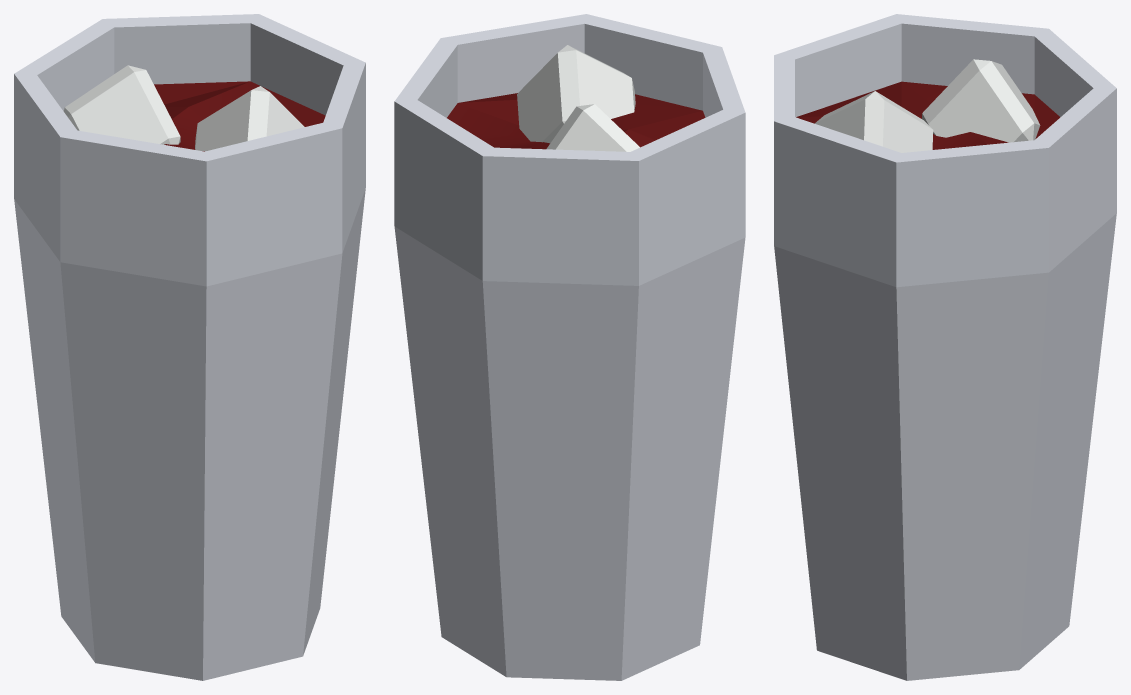
Rendered from drink.obj.
3 renders of one model, left to right at view 1: azimuth 30°, elevation 25°; view 2: azimuth 150°, elevation 25°; view 3: azimuth 270°, elevation 25°, orthographic.
Visible parts, largest first — view 1: Cylinder_Mesh, Cube.001_Mesh, Cube_Mesh; view 2: Cylinder_Mesh, Cube_Mesh, Cube.001_Mesh; view 3: Cylinder_Mesh, Cube.001_Mesh, Cube_Mesh.
Boxes of the visible parts, x1,y1,x2,y2 form: Cylinder_Mesh: (14, 14, 365, 680); Cube.001_Mesh: (63, 65, 180, 144); Cube_Mesh: (195, 86, 304, 151); Cylinder_Mesh: (394, 14, 745, 680); Cube_Mesh: (517, 45, 635, 143); Cube.001_Mesh: (546, 104, 639, 151); Cylinder_Mesh: (774, 14, 1116, 680); Cube.001_Mesh: (922, 59, 1040, 142); Cube_Mesh: (815, 91, 933, 152).
Size of the model in its own units: 0.1071 by 0.1844 by 0.1044.
